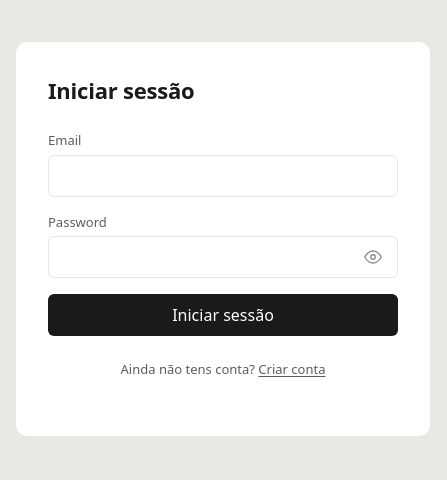
Test case: Página de início de sessão › mostra a mensagem de erro quando as credenciais estão erradas
In the field labelled "Email": (223, 176) left=48, top=155, right=398, bottom=197, type "ana@exemplo.pt"
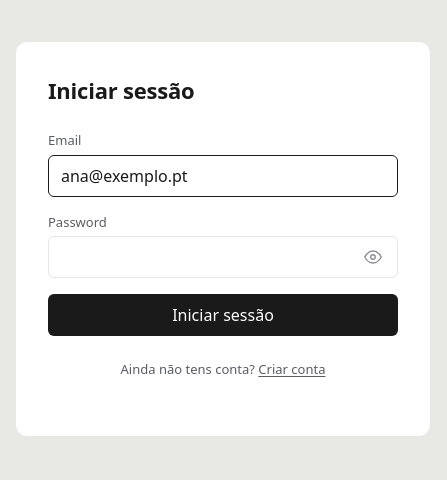
In the password field labelled "Password": (223, 257) left=48, top=236, right=398, bottom=278, type "password-errada"
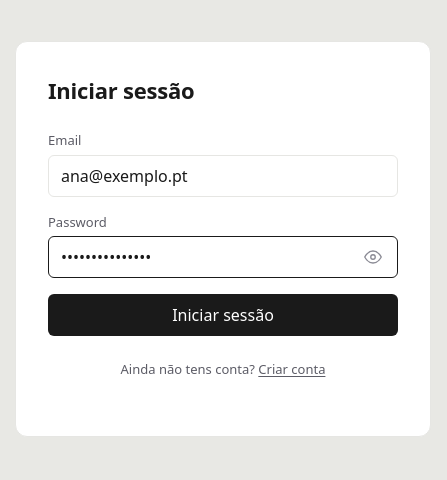
Click the button "Iniciar sessão": (223, 315) left=48, top=294, right=398, bottom=336
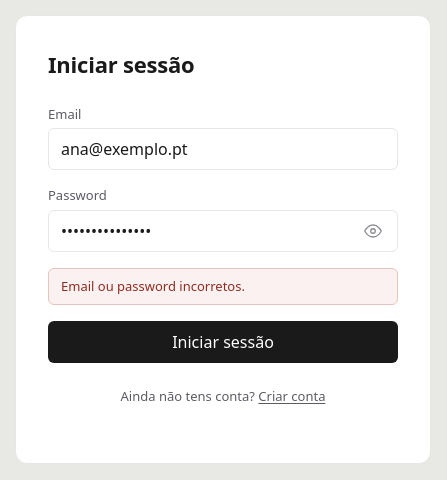
Now the message reads "Email ou password incorretos.", box left=61, top=276, right=245, bottom=294
